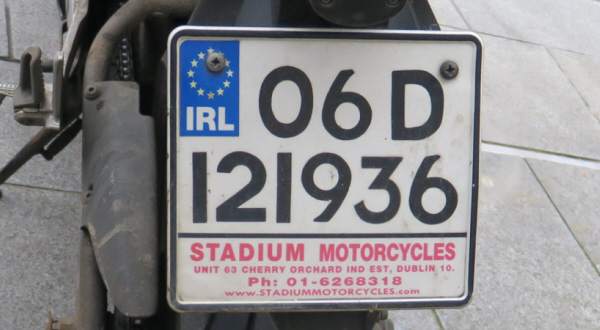license_plate: (165, 25, 473, 309)
